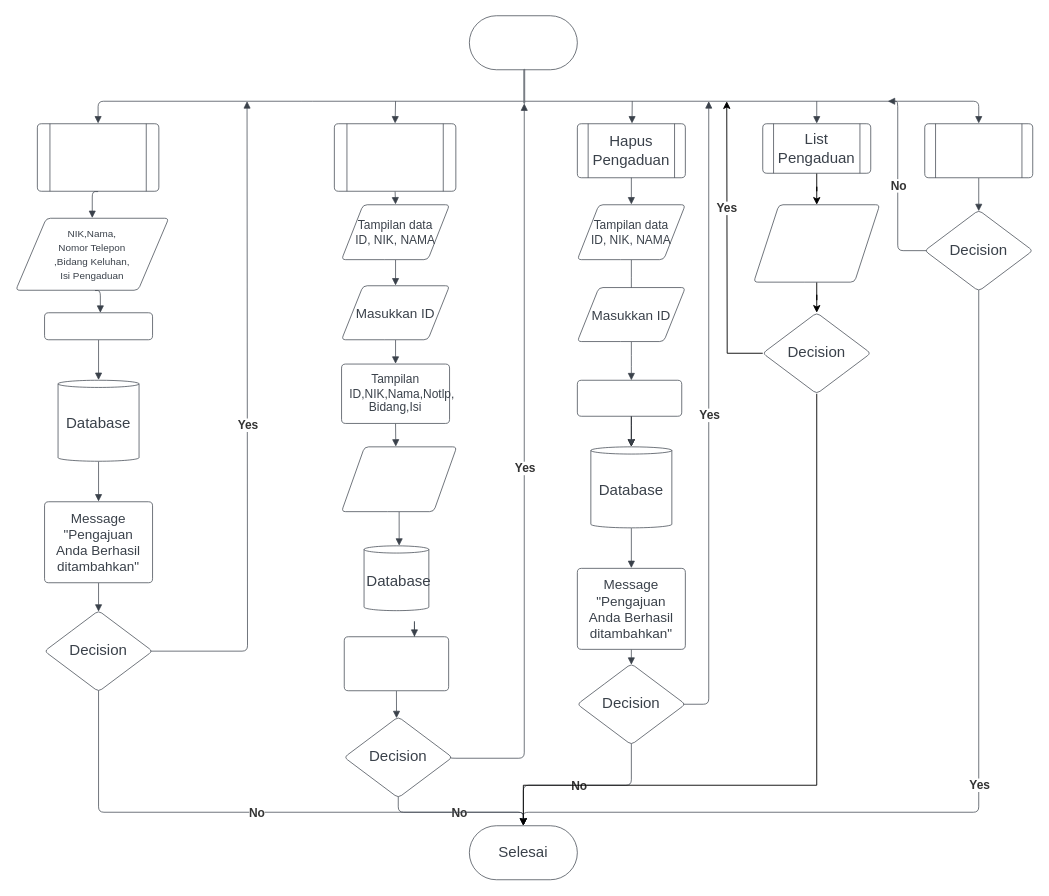
This 1049x896 diagram has some shape labels left out. Each missing label, with the box of its shape:
Ajukan Pengaduan: (37, 123, 159, 191)
DELETE: (577, 379, 682, 416)
Edit NIK,Nama,Notlp, Bidang, Isi: (341, 446, 457, 512)
Edit Pengaduan: (334, 123, 456, 191)
Exit: (924, 123, 1033, 178)
Message "Data Berhasil di edit": (343, 636, 449, 691)
Mulai: (469, 15, 577, 70)
Save: (44, 312, 152, 340)
Tampilan data, NIK,Nama, Nomor Telepon ,Bidang Keluhan, Isi Pengaduan: (753, 204, 880, 282)
